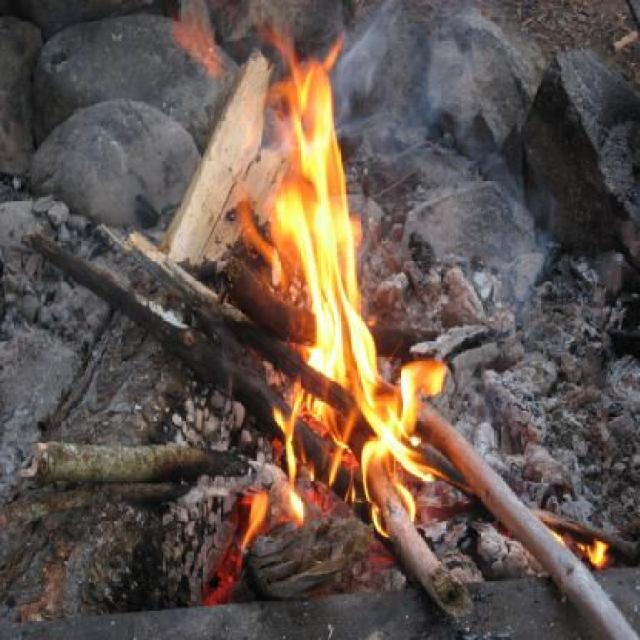Fire: (168, 10, 458, 568)
Smoke: (160, 0, 570, 375)
